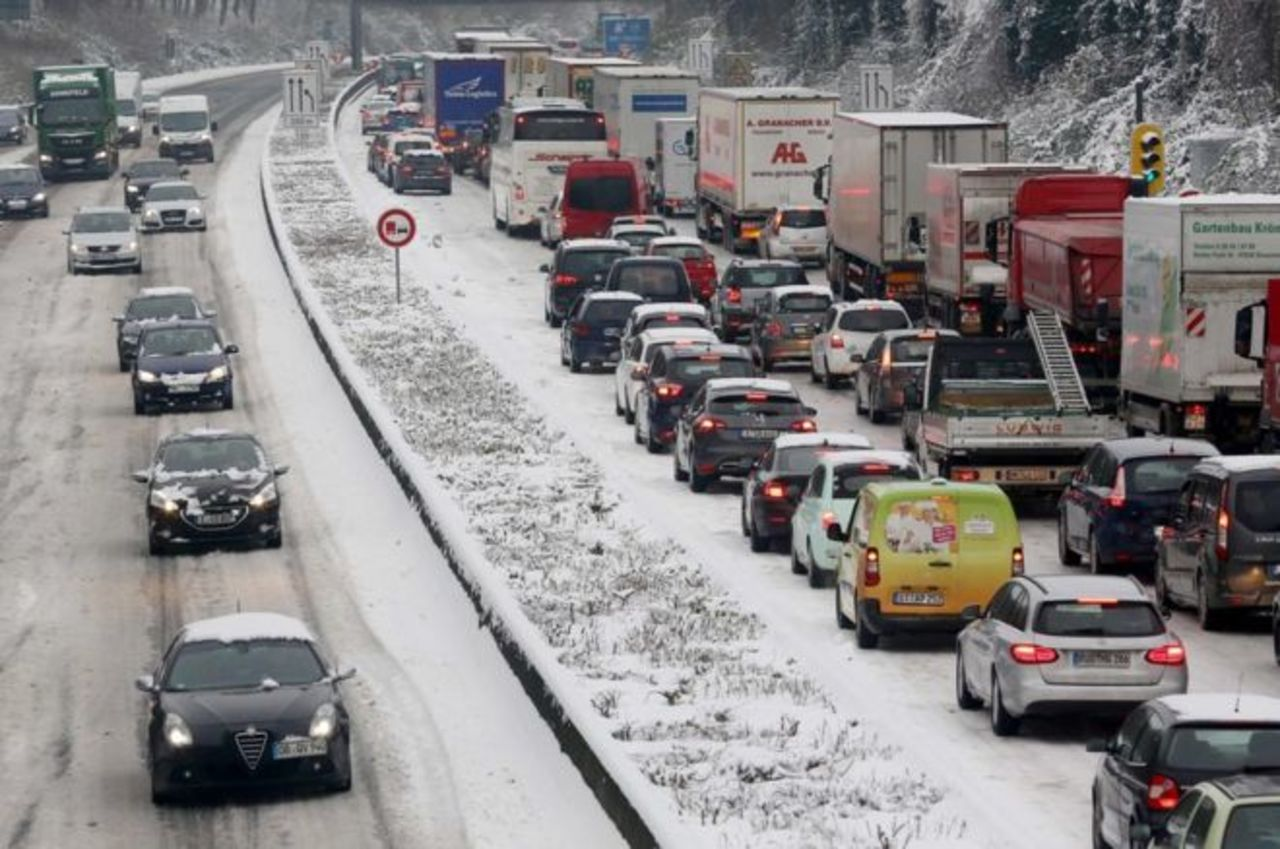bus: (487, 92, 610, 230), (554, 159, 638, 241)
car: (135, 613, 363, 804), (951, 571, 1183, 738), (840, 478, 1029, 649), (1088, 688, 1279, 847), (1055, 437, 1218, 579), (1152, 457, 1279, 637), (137, 428, 285, 557), (787, 459, 918, 586), (747, 431, 877, 547), (677, 388, 815, 495), (635, 337, 751, 449), (133, 325, 237, 413), (810, 300, 916, 386), (545, 239, 635, 327), (114, 286, 210, 368), (1149, 773, 1269, 838), (855, 333, 934, 424), (562, 290, 647, 374), (757, 289, 837, 371), (712, 254, 803, 321), (64, 207, 143, 273), (153, 94, 217, 166), (139, 180, 209, 233), (386, 142, 452, 194), (116, 156, 189, 203), (616, 324, 651, 405), (0, 165, 50, 219), (456, 122, 483, 167), (2, 103, 27, 149), (361, 100, 394, 124)
truck: (1128, 198, 1278, 459), (1010, 175, 1143, 406), (930, 160, 1089, 339), (696, 85, 844, 260), (823, 111, 937, 286), (593, 66, 686, 168), (424, 50, 508, 147), (40, 64, 114, 172), (647, 123, 697, 214), (540, 56, 605, 109), (106, 70, 146, 141)
